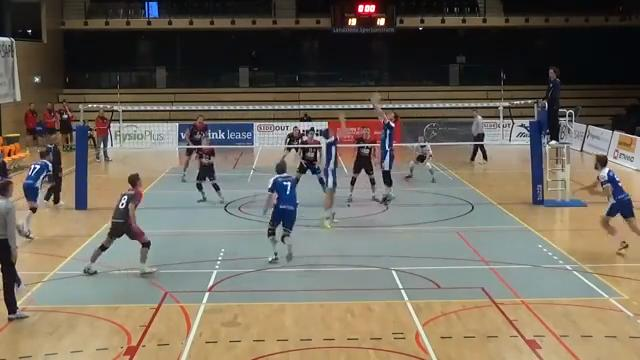alzata: (367, 92, 401, 210)
